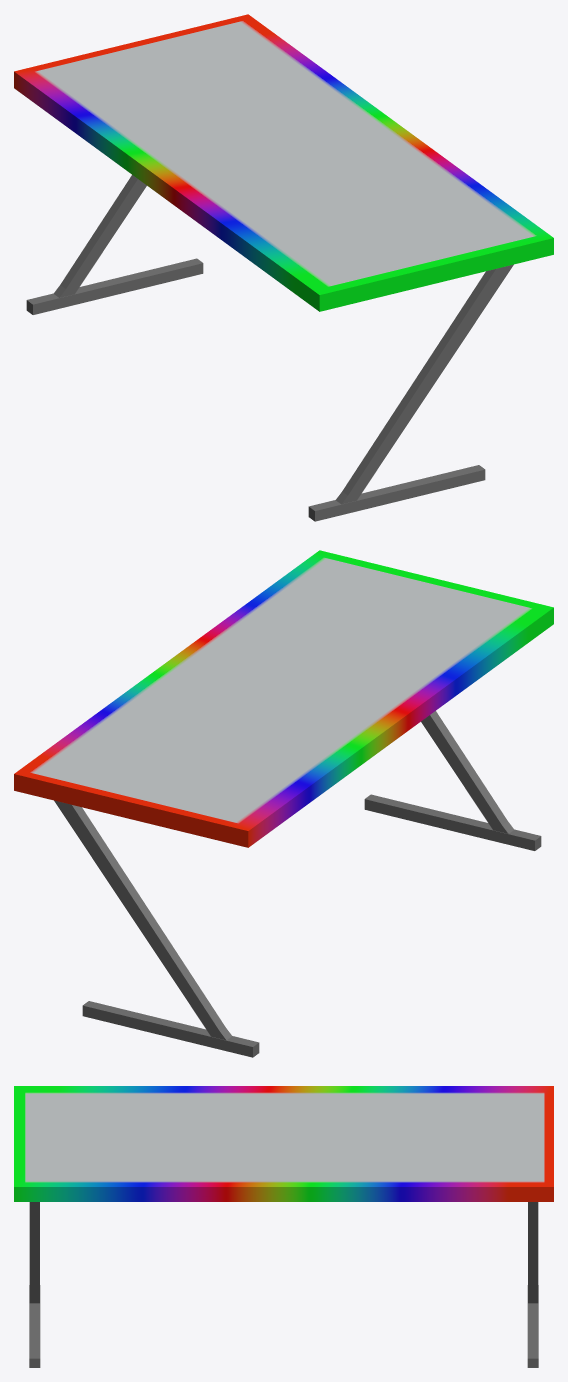
File: tableWhite.fbx
The picture shows the model from 3 angles, top to bottom: view 1: azimuth 30°, elevation 25°; view 2: azimuth 150°, elevation 25°; view 3: azimuth 270°, elevation 25°; orthographic projection. The views are drawn at different scales.
Parts seen in each view (by area): view 1: Table; view 2: Table; view 3: Table.
Part boxes in pixels (x1,y1,x2,y2): Table: (14,14,553,521); Table: (14,550,553,1057); Table: (14,1086,553,1367).
Bounding box in the file's own units: 4.18 × 9.44 × 3.98.
